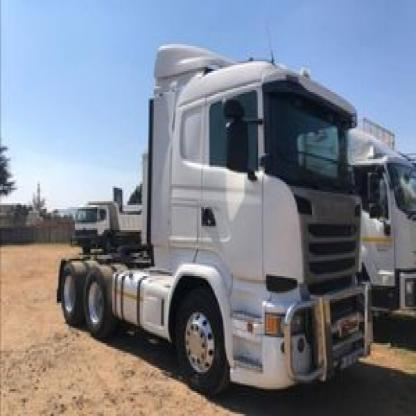dump_truck: (43, 36, 376, 399)
